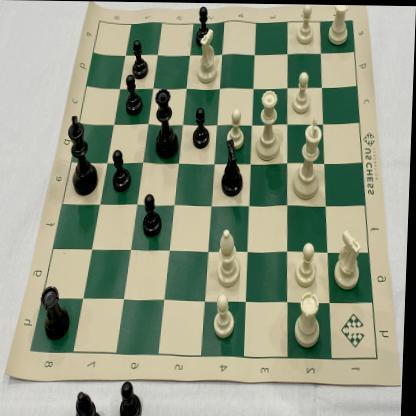black-king: (65, 110, 102, 199)
black-knight: (216, 139, 249, 200)
black-pawn: (141, 189, 168, 241), (121, 72, 146, 120), (111, 146, 135, 196), (190, 104, 215, 150), (192, 4, 217, 48), (130, 36, 154, 81)
black-queen: (148, 83, 184, 161)
black-rook: (40, 282, 77, 344)
white-bishop: (216, 224, 248, 289)
white-king: (291, 115, 328, 200)
white-knight: (333, 220, 367, 291)
white-pawn: (212, 290, 241, 341), (295, 239, 324, 286), (291, 69, 316, 114), (293, 4, 319, 46), (226, 106, 247, 150)
white-queen: (254, 85, 285, 161)
white-rook: (292, 288, 329, 349), (325, 4, 354, 48)
